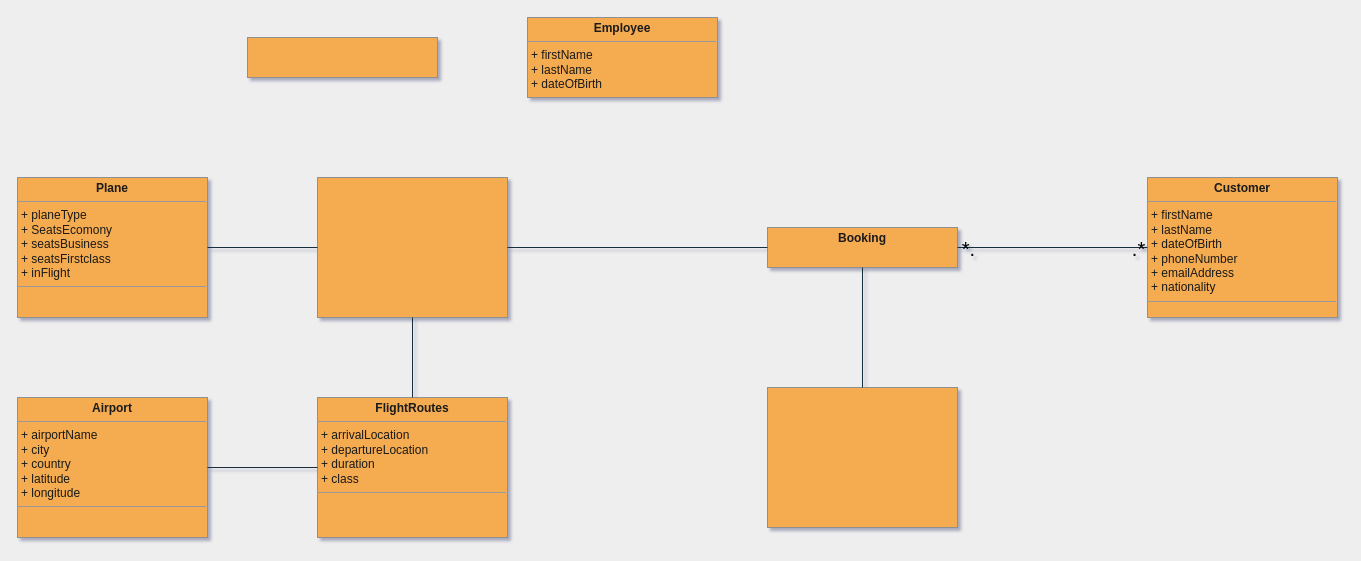
Some shapes in this 1361 by 561 pixel diagram are drawn without their labels. The shapes that lost their labels are listed below. From the top down, each one's centre as x and y in pixels, then its label:
At [342,57]: "Airline".
At [412,247]: "Flight + departureDate + time".
At [862,457]: "<<ENUM>> Class + ECONOMY + BUSINESS + FIRST".
